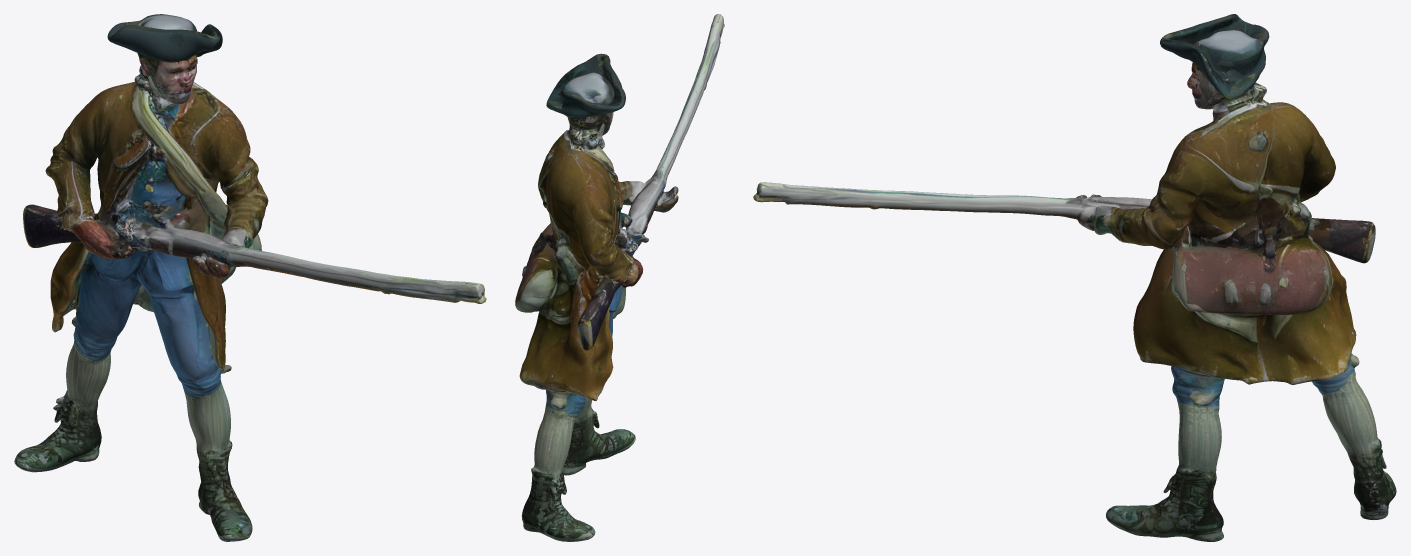
The model's file is americanRevolutionist.glb.
3 views of the same model, side by side, from view 1: azimuth 30°, elevation 25°; view 2: azimuth 150°, elevation 25°; view 3: azimuth 270°, elevation 25° (orthographic). The views are drawn at different scales.
Parts seen in each view (by area): view 1: textured_mesh.obj; view 2: textured_mesh.obj; view 3: textured_mesh.obj.
Boxes of the visible parts, x1,y1,x2,y2 form: textured_mesh.obj: (14, 14, 486, 541); textured_mesh.obj: (515, 14, 724, 541); textured_mesh.obj: (753, 14, 1396, 541).
Size of the model in its own units: 0.5793 by 1.67 by 1.98.
Materials: 1 (1 with a texture image).
